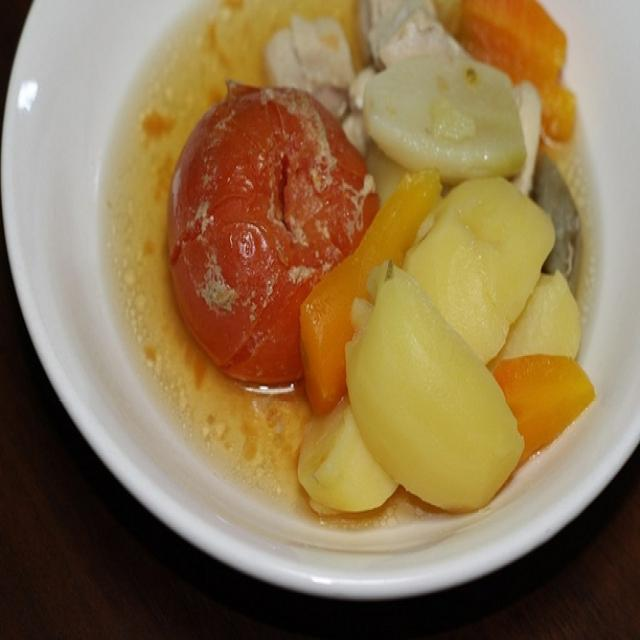汤锅炖物: (68, 16, 625, 546)
